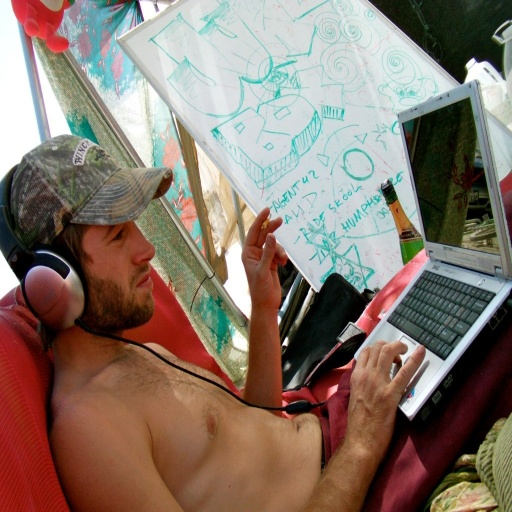hand: (335, 330, 431, 473), (240, 204, 288, 311)
